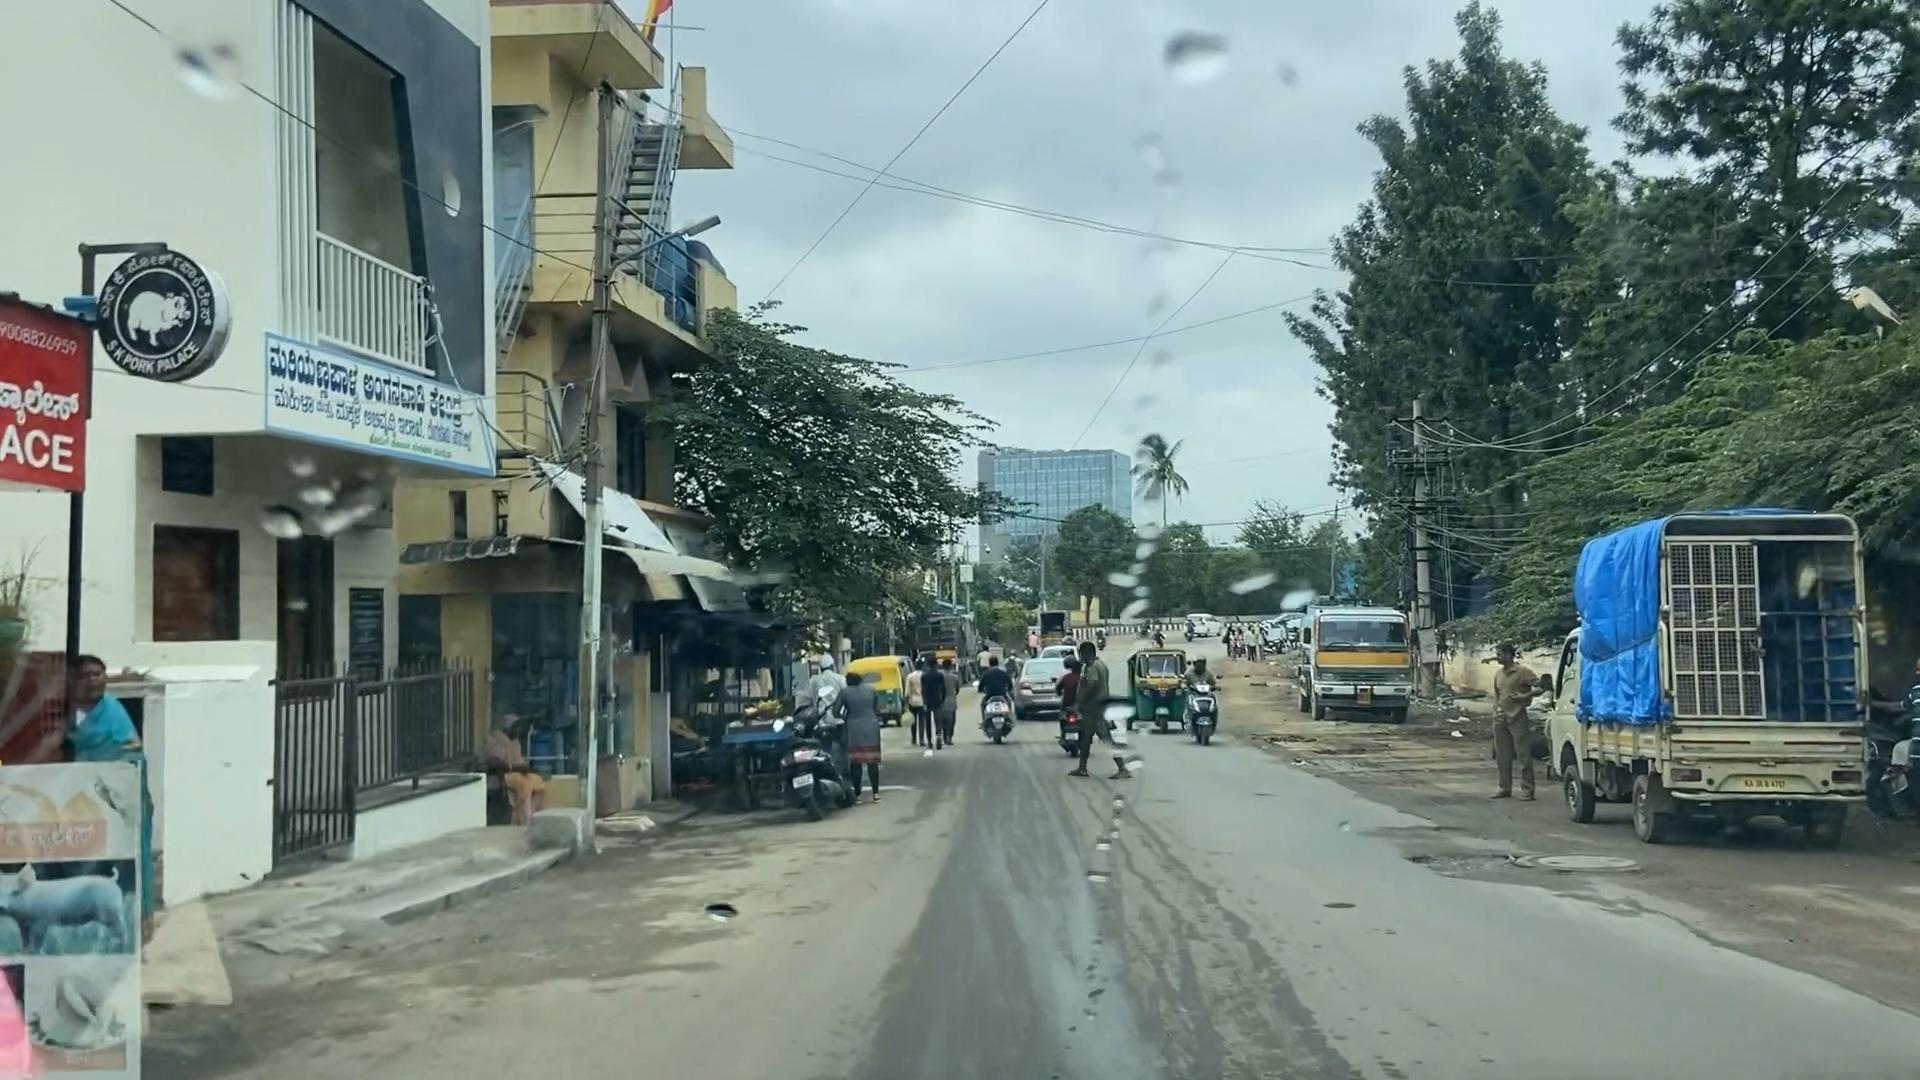RoadDamages: (1366, 810, 1622, 926), (611, 873, 761, 976)
